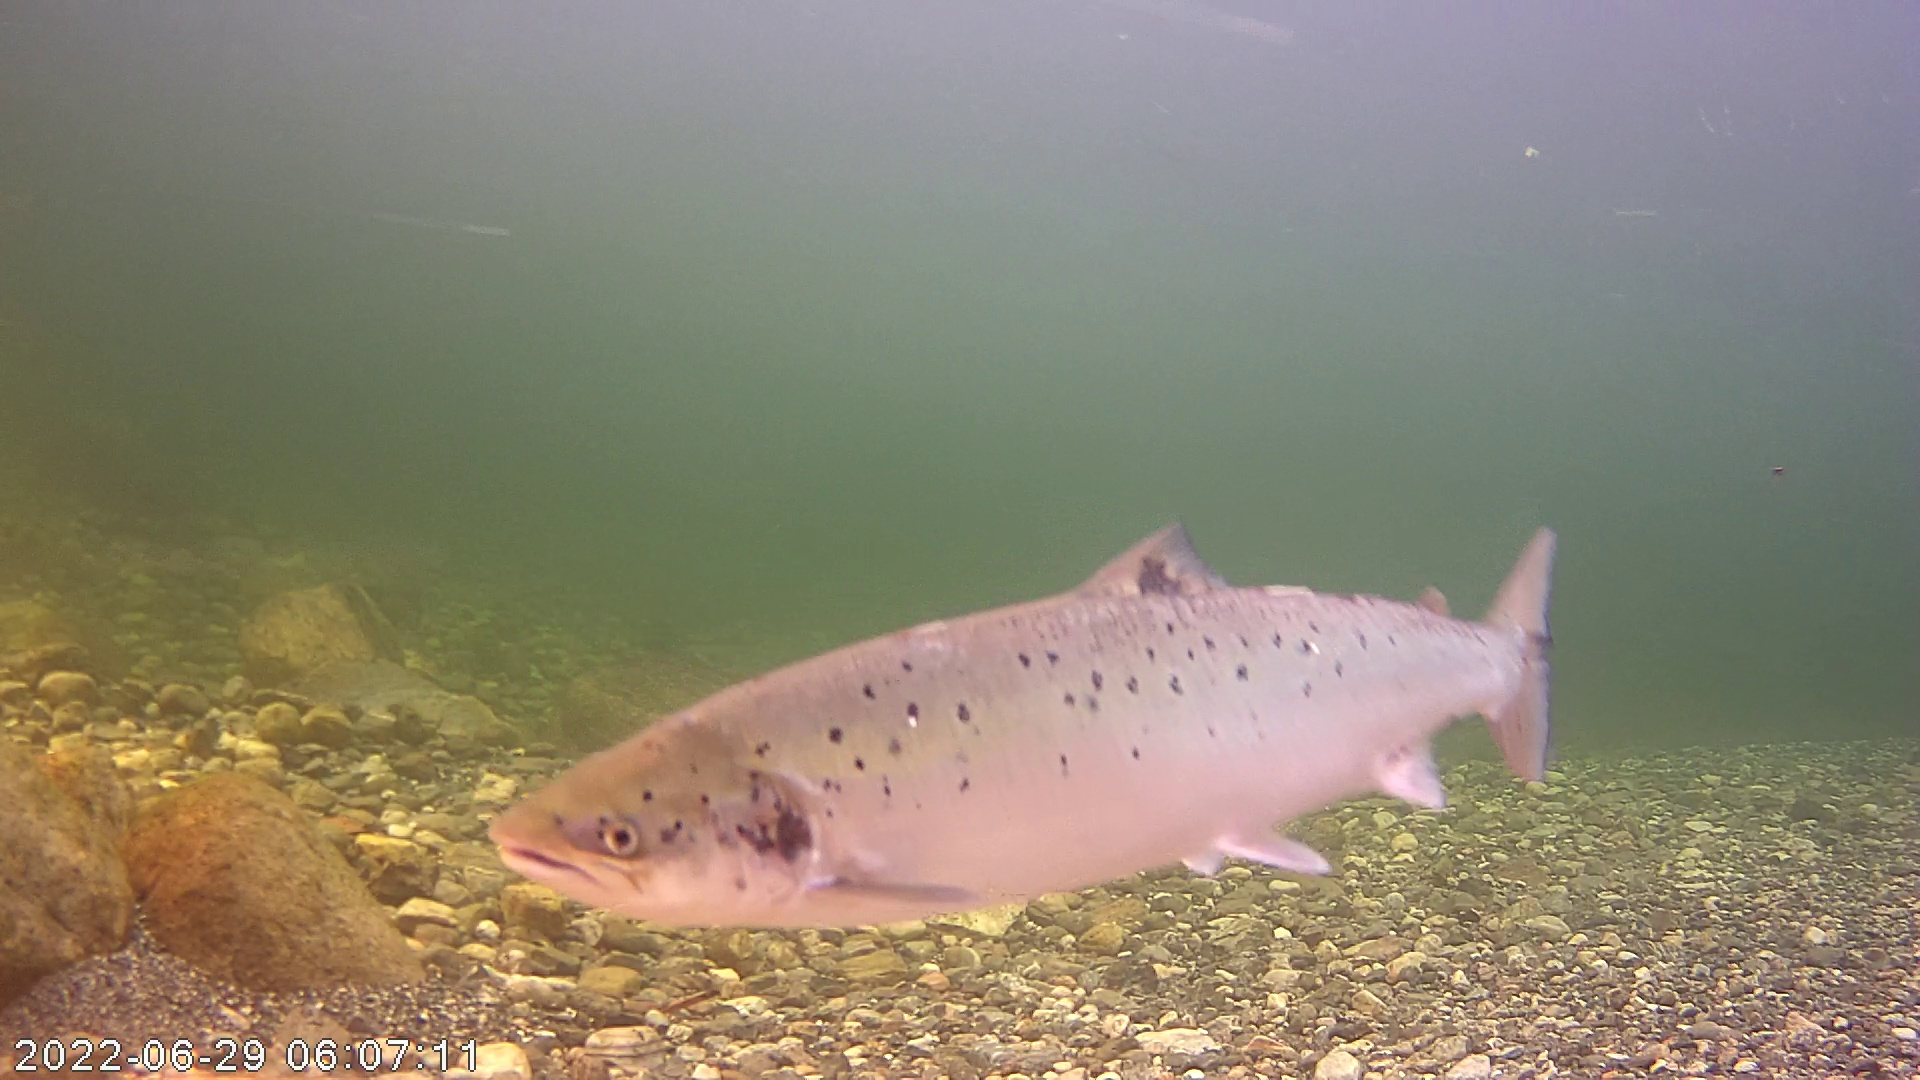salmon: (473, 451, 1563, 971)
